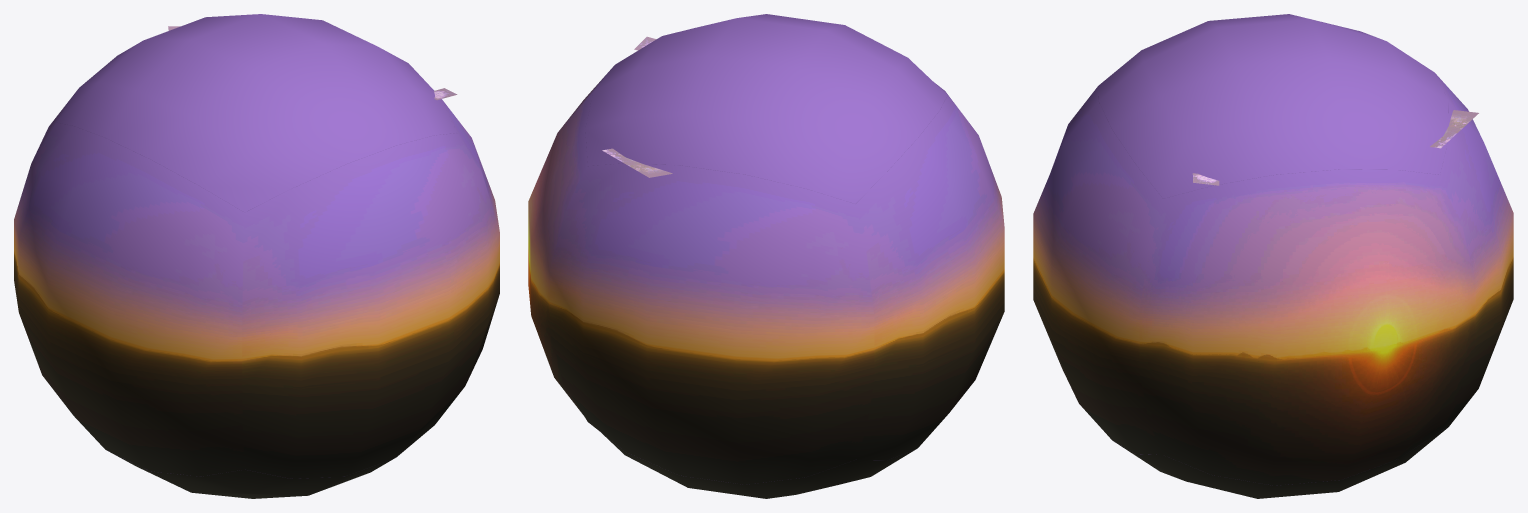
Rendered from LM_SKYBOX.fbx.
3 renders of one model, left to right at view 1: azimuth 30°, elevation 25°; view 2: azimuth 150°, elevation 25°; view 3: azimuth 270°, elevation 25°, orthographic.
Parts seen in each view (by area): view 1: LM_SKYBOX; view 2: LM_SKYBOX; view 3: LM_SKYBOX.
Boxes of the visible parts, x1,y1,x2,y2 form: LM_SKYBOX: (14, 14, 499, 498); LM_SKYBOX: (528, 14, 1004, 498); LM_SKYBOX: (1033, 14, 1513, 498).
Bounding box in the file's own units: 539343 × 528872 × 539343.
Materials: 8 (8 with a texture image).
